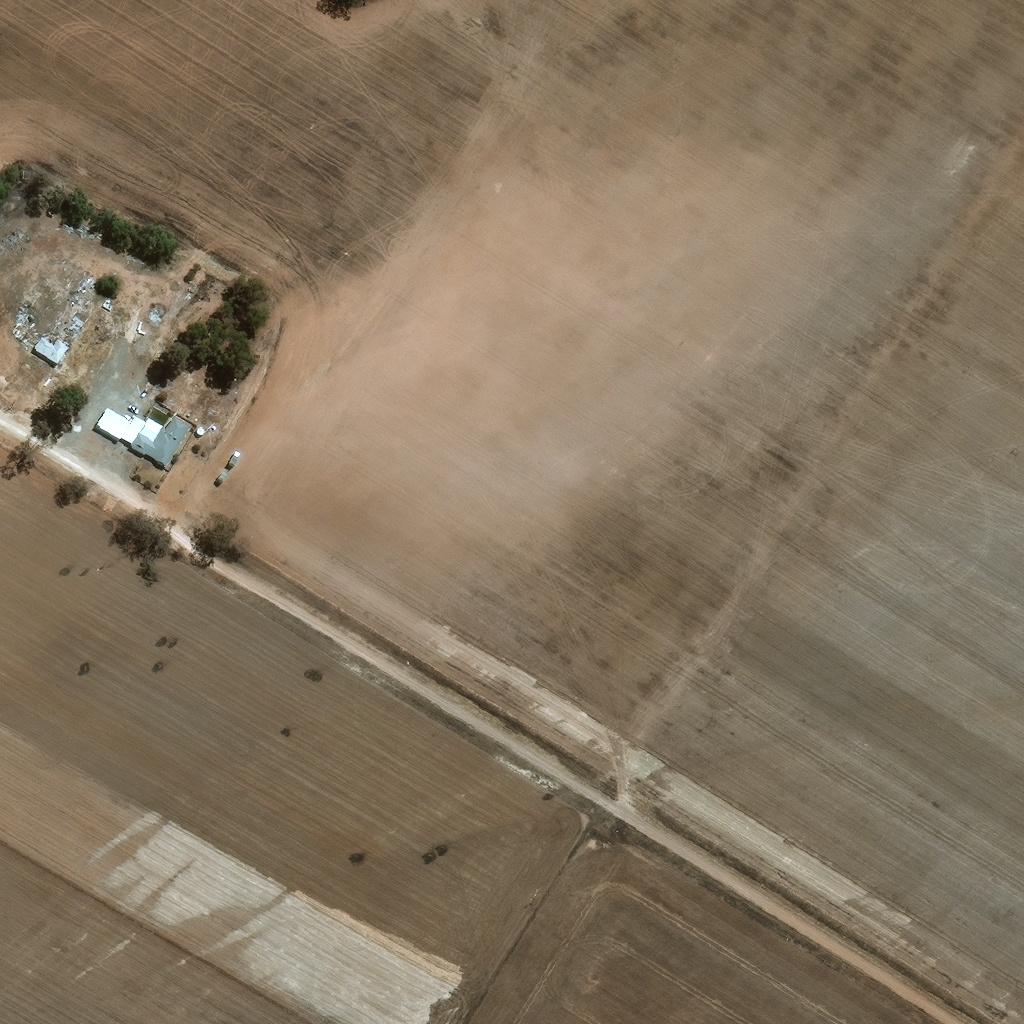0 no-damage: (95, 407, 193, 469), (34, 336, 70, 362), (103, 290, 118, 308), (196, 425, 206, 435)
